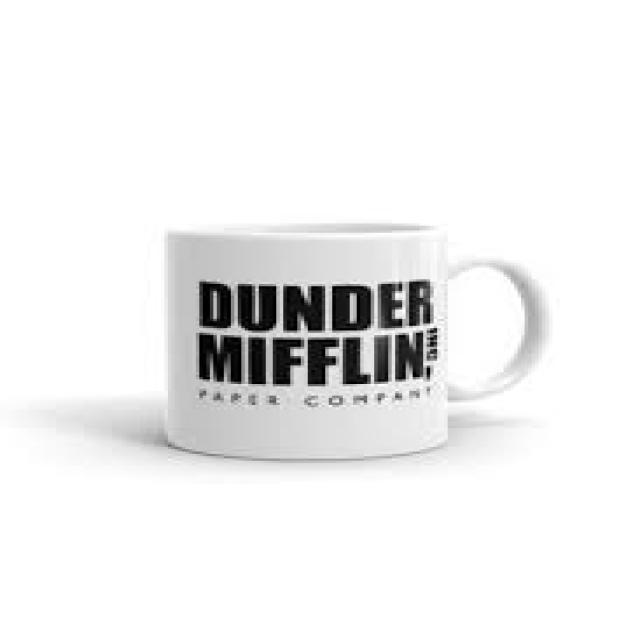taza: (164, 221, 552, 464)
